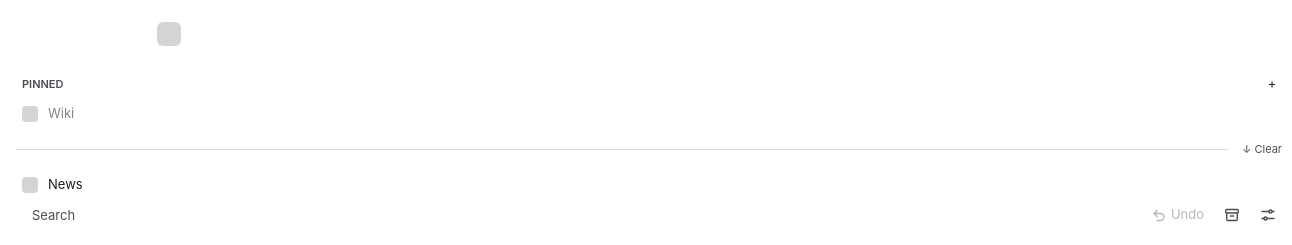
Scenario: hides a section that has no match, and says so when nothing matches
Type "zzz" into the search field.
click(579, 215); type("zzz")  # box top-left (22, 201), bottom-right (1137, 229)
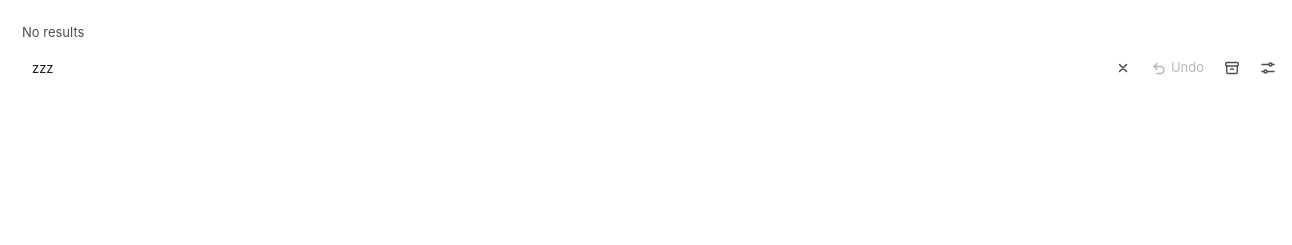
Expected: the list "Favorites" is gone
Expected: the message reads "No results", top-left (22, 24), bottom-right (84, 40)
